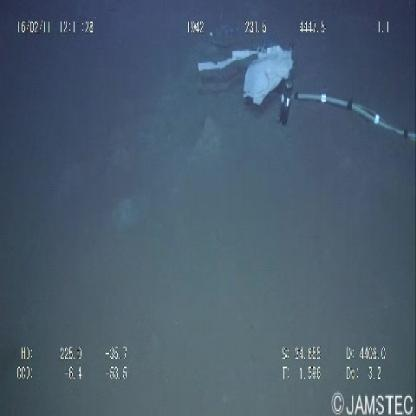Rác: (192, 42, 298, 104)
